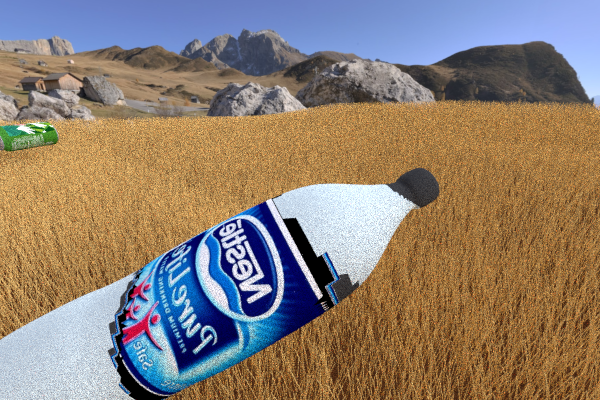Plastic Bottle: (0, 167, 439, 400), (0, 121, 58, 151)
